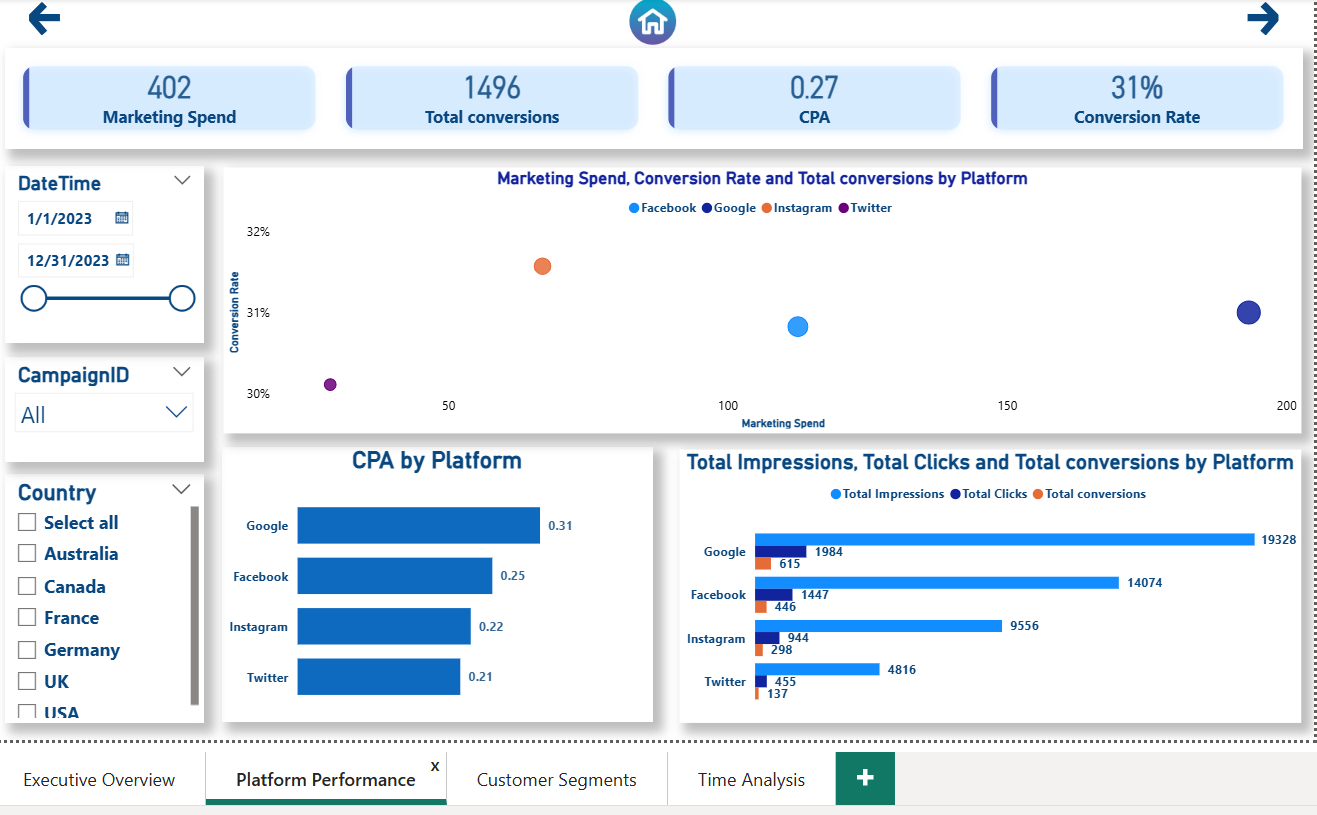

The dashboard page shown, as its layout file describes it:
{"tool":"powerbi","page":{"name":"Platform Performance","canvas":[1280,720],"ordinal":1},"visuals":[{"type":"cardVisual","fields":{"Data":["FitBitDataMarketing.Estimated Cost","FitBitDataMarketing.Total conversions","FitBitDataMarketing.CPA","FitBitDataMarketing.Conversion Rate"]},"box":[10,48.3,1260,98.3],"z":0},{"type":"slicer","fields":{"Values":["FitBitDataMarketing.DateTime"]},"box":[10,163.3,193.3,171.7],"z":1000},{"type":"slicer","fields":{"Values":["FitBitDataMarketing.CampaignID"]},"box":[10,348.3,193.3,101.7],"z":2000},{"type":"scatterChart","fields":{"X":["FitBitDataMarketing.Estimated Cost"],"Y":["FitBitDataMarketing.Conversion Rate"],"Size":["FitBitDataMarketing.Total conversions"],"Series":["FitBitDataMarketing.Platform"]},"box":[222,164,1046,258],"z":3000},{"type":"barChart","fields":{"Category":["FitBitDataMarketing.Platform"],"Y":["FitBitDataMarketing.CPA"]},"box":[221.8,435.6,417.8,267.2],"z":4000},{"type":"clusteredBarChart","fields":{"Category":["FitBitDataMarketing.Platform"],"Y":["FitBitDataMarketing.Total Impressions","FitBitDataMarketing.Total Clicks","FitBitDataMarketing.Total conversions"]},"box":[665,438.3,603.3,265],"z":5000},{"type":"slicer","fields":{"Values":["FitBitDataMarketing.Country"]},"box":[10,461.7,193.3,241.7],"z":6000},{"type":"actionButton","box":[0,0,100,40],"z":7000},{"type":"actionButton","box":[1180,0,100,40],"z":8000},{"type":"image","box":[586.7,0,105,45],"z":9000}]}

Visuals, with their boxes on the page's 1280x720 design canvas (x1, y1, x2, y2). These are canvas units, not pixel positions in the 1317x815 screenshot, which may show the page scaled, cropped or inside an application window:
cardVisual - FitBitDataMarketing.Estimated Cost x FitBitDataMarketing.Total conversions: [x1=10, y1=48, x2=1270, y2=147]
slicer - FitBitDataMarketing.DateTime: [x1=10, y1=163, x2=203, y2=335]
slicer - FitBitDataMarketing.CampaignID: [x1=10, y1=348, x2=203, y2=450]
scatterChart - FitBitDataMarketing.Estimated Cost x FitBitDataMarketing.Conversion Rate: [x1=222, y1=164, x2=1268, y2=422]
barChart - FitBitDataMarketing.Platform x FitBitDataMarketing.CPA: [x1=222, y1=436, x2=640, y2=703]
clusteredBarChart - FitBitDataMarketing.Platform x FitBitDataMarketing.Total Impressions: [x1=665, y1=438, x2=1268, y2=703]
slicer - FitBitDataMarketing.Country: [x1=10, y1=462, x2=203, y2=703]
actionButton: [x1=0, y1=0, x2=100, y2=40]
actionButton: [x1=1180, y1=0, x2=1280, y2=40]
image: [x1=587, y1=0, x2=692, y2=45]
